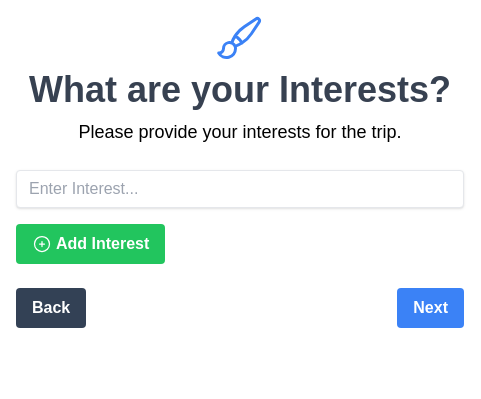
Scenario: InterestsInput component › adding new interests › renders new interest input
Click the button "Add Interest" at (91, 244), box [16, 224, 165, 264]
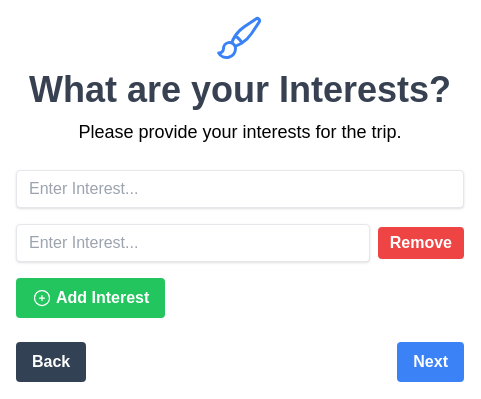
Result: the 2nd field with placeholder "Enter Interest..." is shown at [16, 224, 370, 262]
